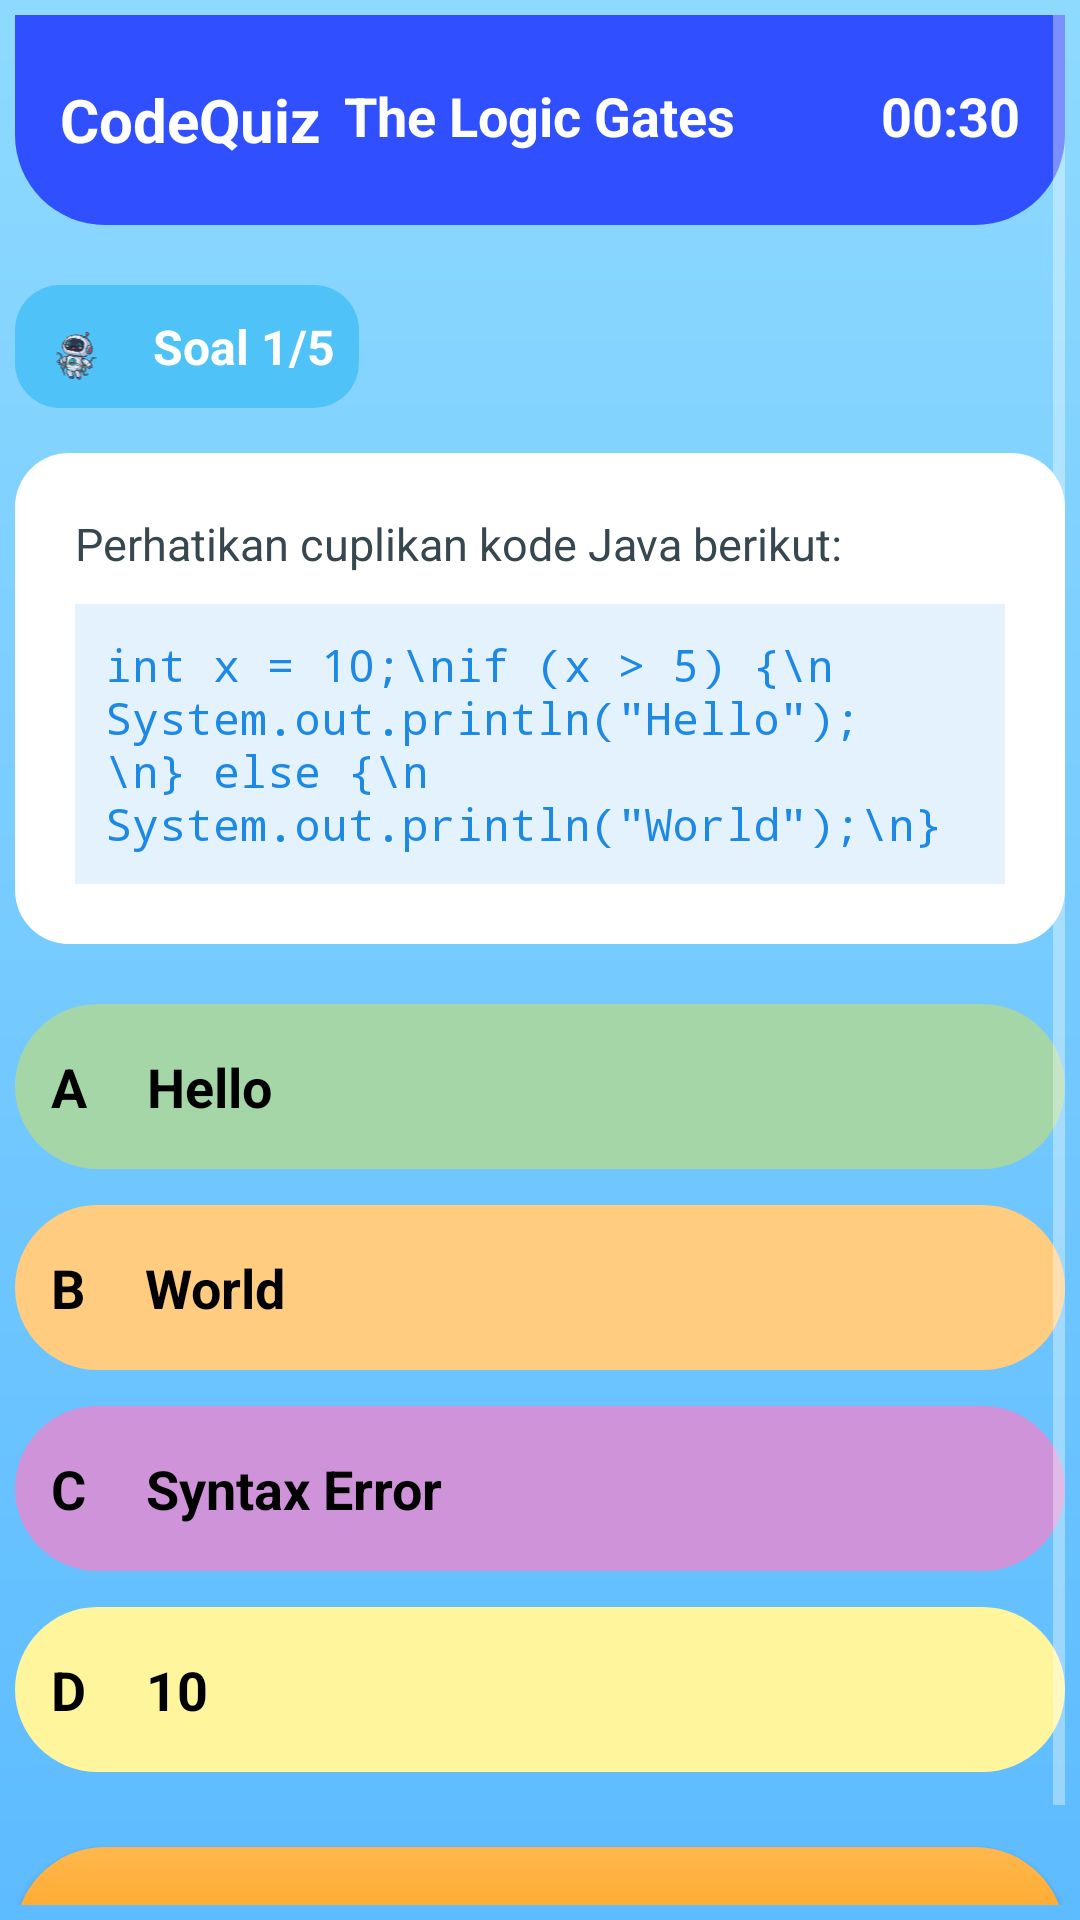

Icon bounding boxes for this 1080px×1920px phone screenshot, format (x1, y1, x2, y2):
robot quiz: (56, 332, 97, 380)
